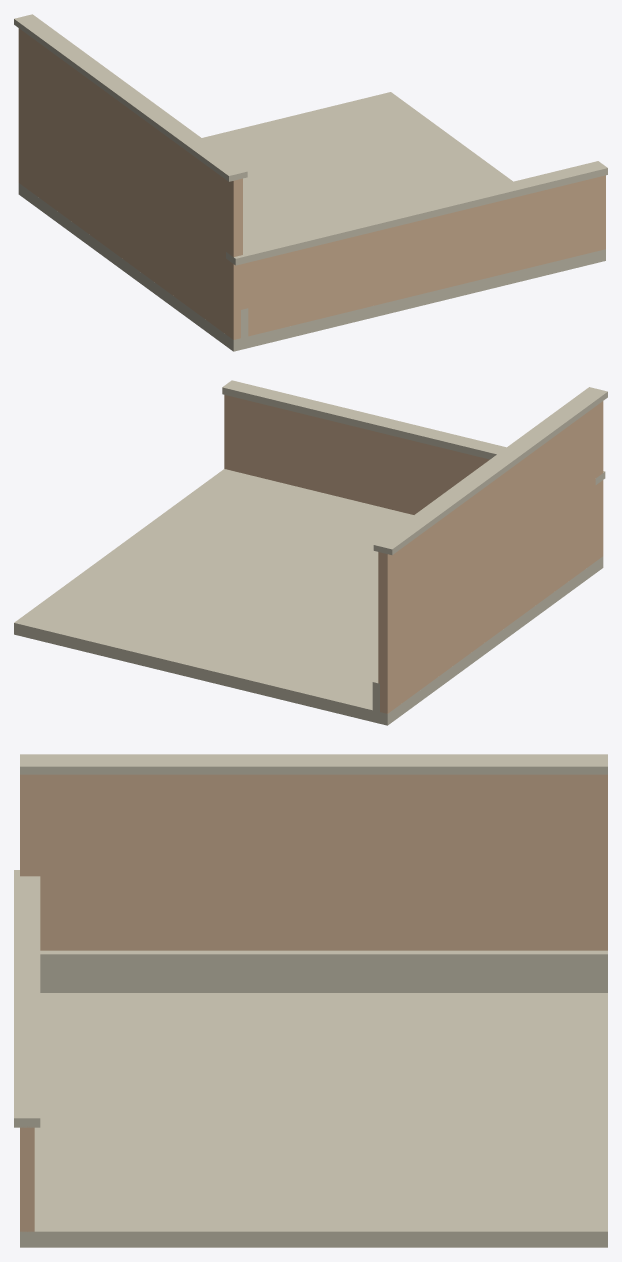
Rendered from district-0-2-2.glb.
The picture shows the model from 3 angles, top to bottom: view 1: azimuth 30°, elevation 25°; view 2: azimuth 150°, elevation 25°; view 3: azimuth 270°, elevation 25°; orthographic projection. The views are drawn at different scales.
Visible parts, largest first — view 1: plaster.021, stone.024; view 2: stone.024, plaster.021; view 3: stone.024, plaster.021.
Boxes of the visible parts, x1,y1,x2,y2 form: plaster.021: (18, 28, 605, 339); stone.024: (14, 14, 607, 351); stone.024: (14, 380, 607, 725); plaster.021: (224, 395, 603, 713); stone.024: (14, 754, 607, 1247); plaster.021: (20, 774, 607, 1231).
Size of the model in its own units: 8.1 by 3.63 by 8.08.
